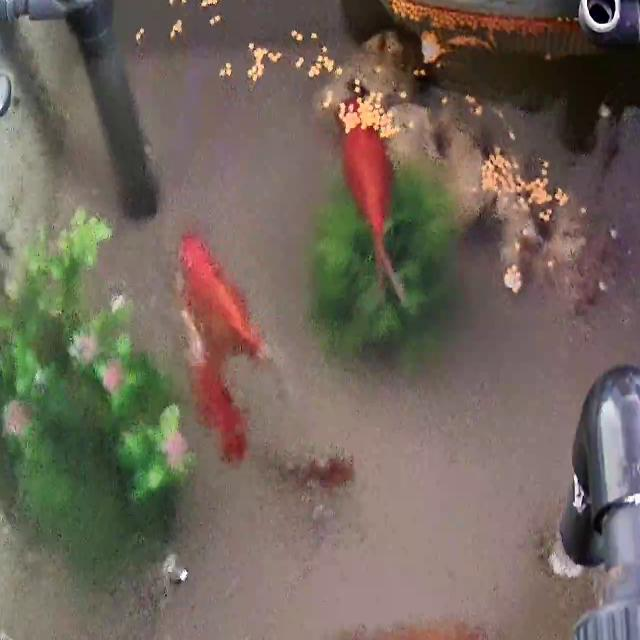fish: (176, 231, 266, 467), (339, 106, 406, 310), (289, 450, 356, 492), (346, 620, 471, 640)
